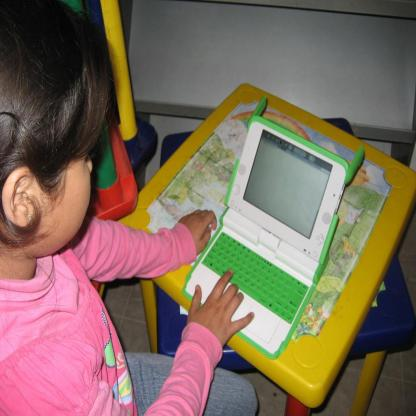board: (181, 96, 364, 358)
